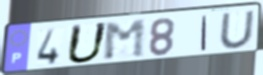4: (35, 26, 64, 66)
8: (148, 17, 177, 57)
I: (199, 14, 209, 52)
M: (103, 18, 147, 62)
U: (64, 21, 111, 66), (218, 9, 256, 50)
